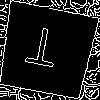T: (22, 25, 61, 77)
